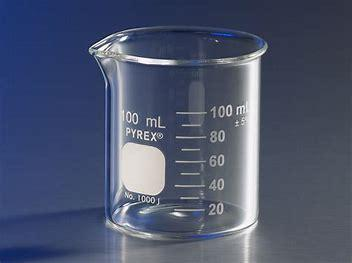Beaker: (86, 5, 260, 247)
